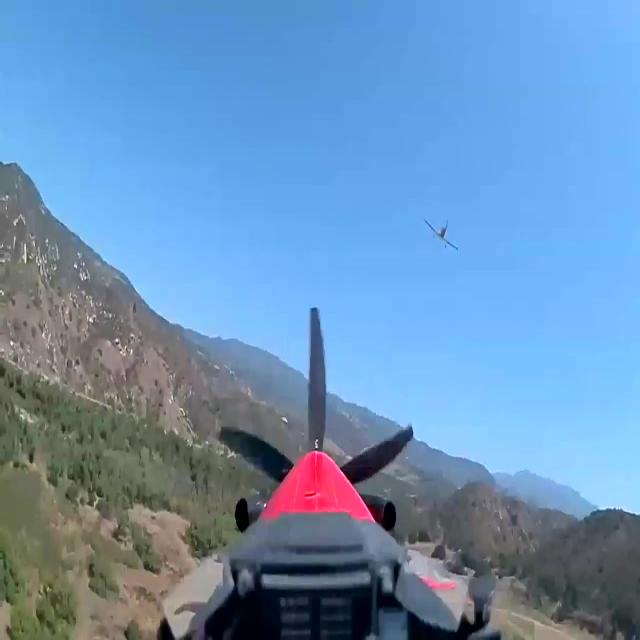iha: (423, 216, 459, 254)
